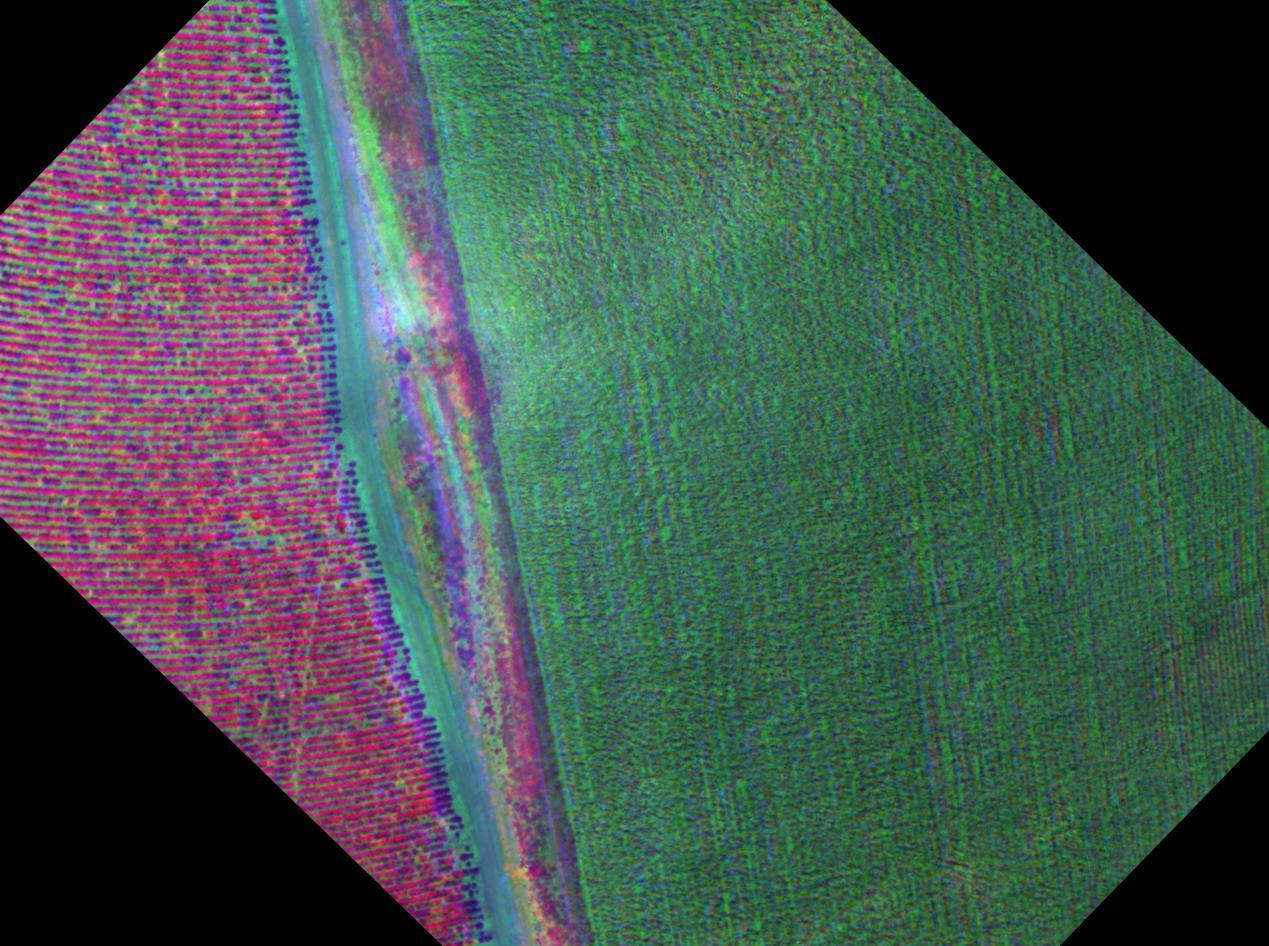dc: (213, 503, 314, 570), (196, 190, 264, 274), (46, 398, 113, 462), (118, 98, 180, 165), (6, 210, 52, 274)
